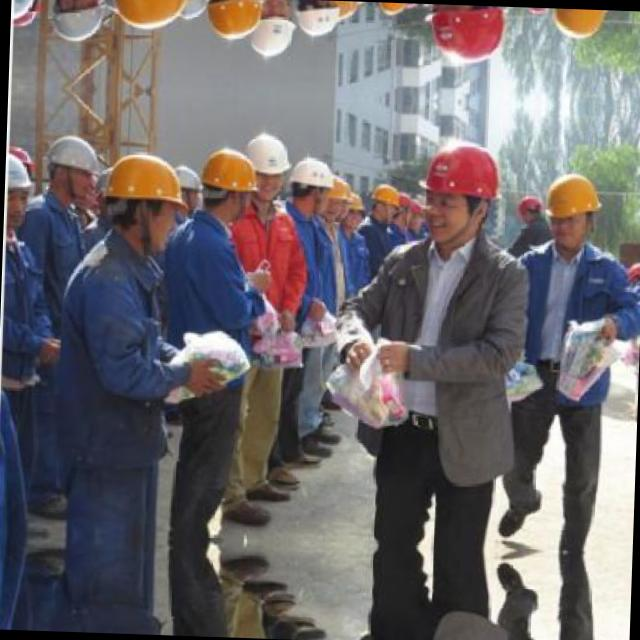helmet: (416, 132, 498, 242), (102, 144, 186, 248), (422, 4, 504, 70), (538, 164, 602, 248), (194, 143, 254, 219), (42, 130, 100, 206), (247, 128, 290, 200), (110, 0, 193, 37), (250, 0, 295, 60), (286, 157, 332, 214), (199, 0, 259, 42), (47, 0, 104, 44), (545, 8, 609, 45), (166, 158, 202, 218), (6, 150, 34, 223), (366, 178, 399, 226), (293, 0, 339, 34), (516, 192, 546, 230), (173, 0, 209, 25), (327, 170, 344, 222), (342, 190, 363, 230), (12, 0, 41, 21), (372, 1, 407, 18), (334, 0, 352, 24), (523, 7, 554, 16)
